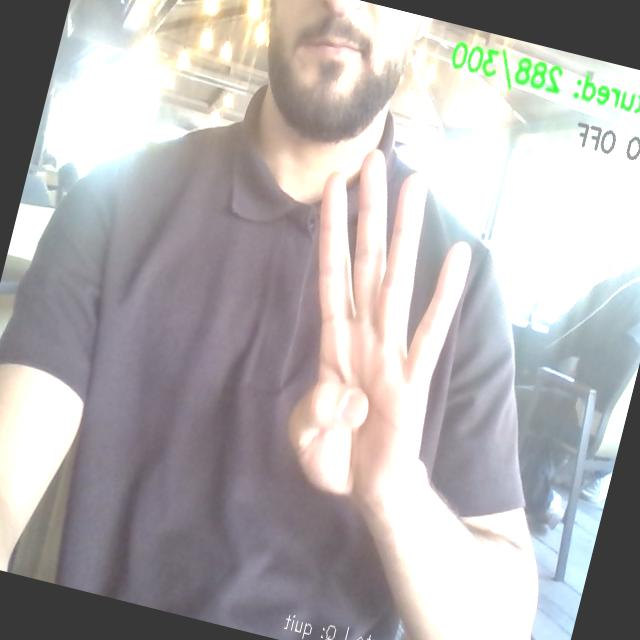Hand: (289, 151, 470, 510)
